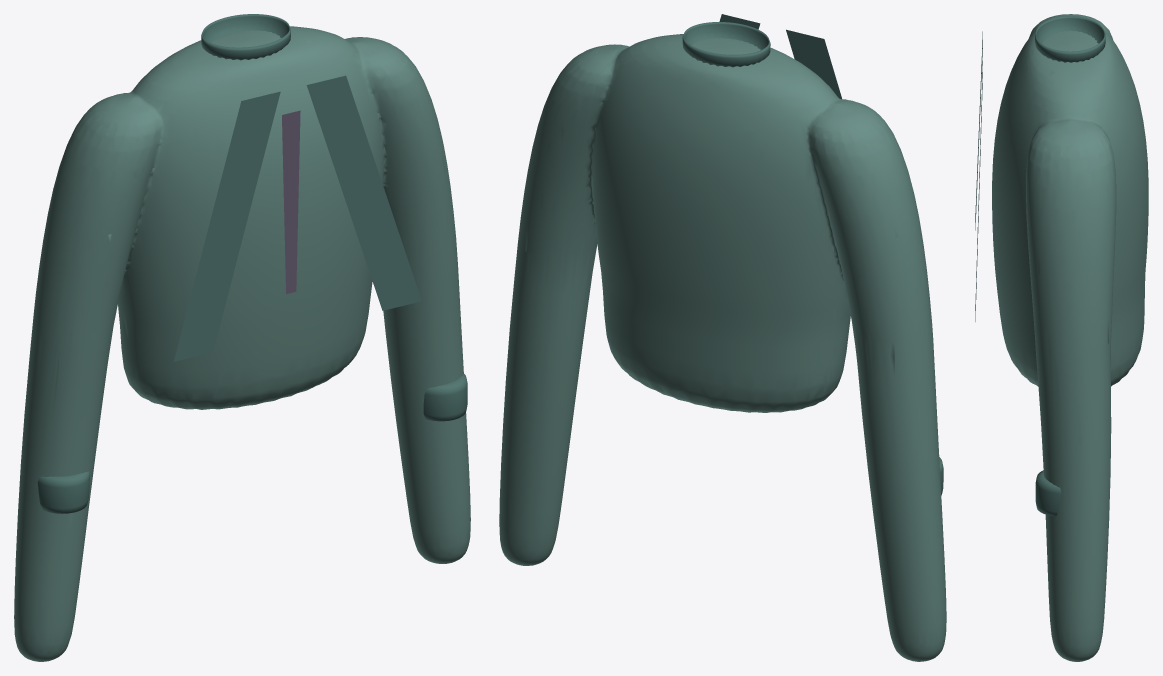
File: adult_formal.glb
3 views of the same model, side by side, from view 1: azimuth 30°, elevation 25°; view 2: azimuth 150°, elevation 25°; view 3: azimuth 270°, elevation 25° (orthographic). The views are drawn at different scales.
Parts seen in each view (by area): view 1: Outfit_Formal_Coat, Outfit_Formal_Lapel.001, Outfit_Formal_Lapel, Outfit_Formal_Tie, Outfit_Formal_Collar, Outfit_Formal_Cuff, Outfit_Formal_Cuff.001; view 2: Outfit_Formal_Coat, Outfit_Formal_Collar, Outfit_Formal_Lapel.001; view 3: Outfit_Formal_Coat, Outfit_Formal_Collar, Outfit_Formal_Cuff.001, Outfit_Formal_Lapel.
Boxes of the visible parts, bbox=[...] form: Outfit_Formal_Coat: bbox=[14, 26, 470, 661]; Outfit_Formal_Lapel.001: bbox=[174, 91, 280, 361]; Outfit_Formal_Lapel: bbox=[306, 75, 421, 310]; Outfit_Formal_Tie: bbox=[282, 110, 300, 293]; Outfit_Formal_Collar: bbox=[201, 14, 290, 60]; Outfit_Formal_Cuff: bbox=[37, 471, 89, 513]; Outfit_Formal_Cuff.001: bbox=[423, 374, 467, 421]; Outfit_Formal_Coat: bbox=[499, 34, 946, 661]; Outfit_Formal_Collar: bbox=[682, 22, 770, 67]; Outfit_Formal_Lapel.001: bbox=[786, 29, 841, 99]; Outfit_Formal_Coat: bbox=[992, 14, 1148, 661]; Outfit_Formal_Collar: bbox=[1035, 16, 1105, 62]; Outfit_Formal_Cuff.001: bbox=[1035, 470, 1061, 516]; Outfit_Formal_Lapel: bbox=[975, 61, 982, 321].
Bounding box in the file's own units: 0.6258 × 0.7758 × 0.2277.
